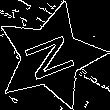N_E: (19, 28, 82, 84)
